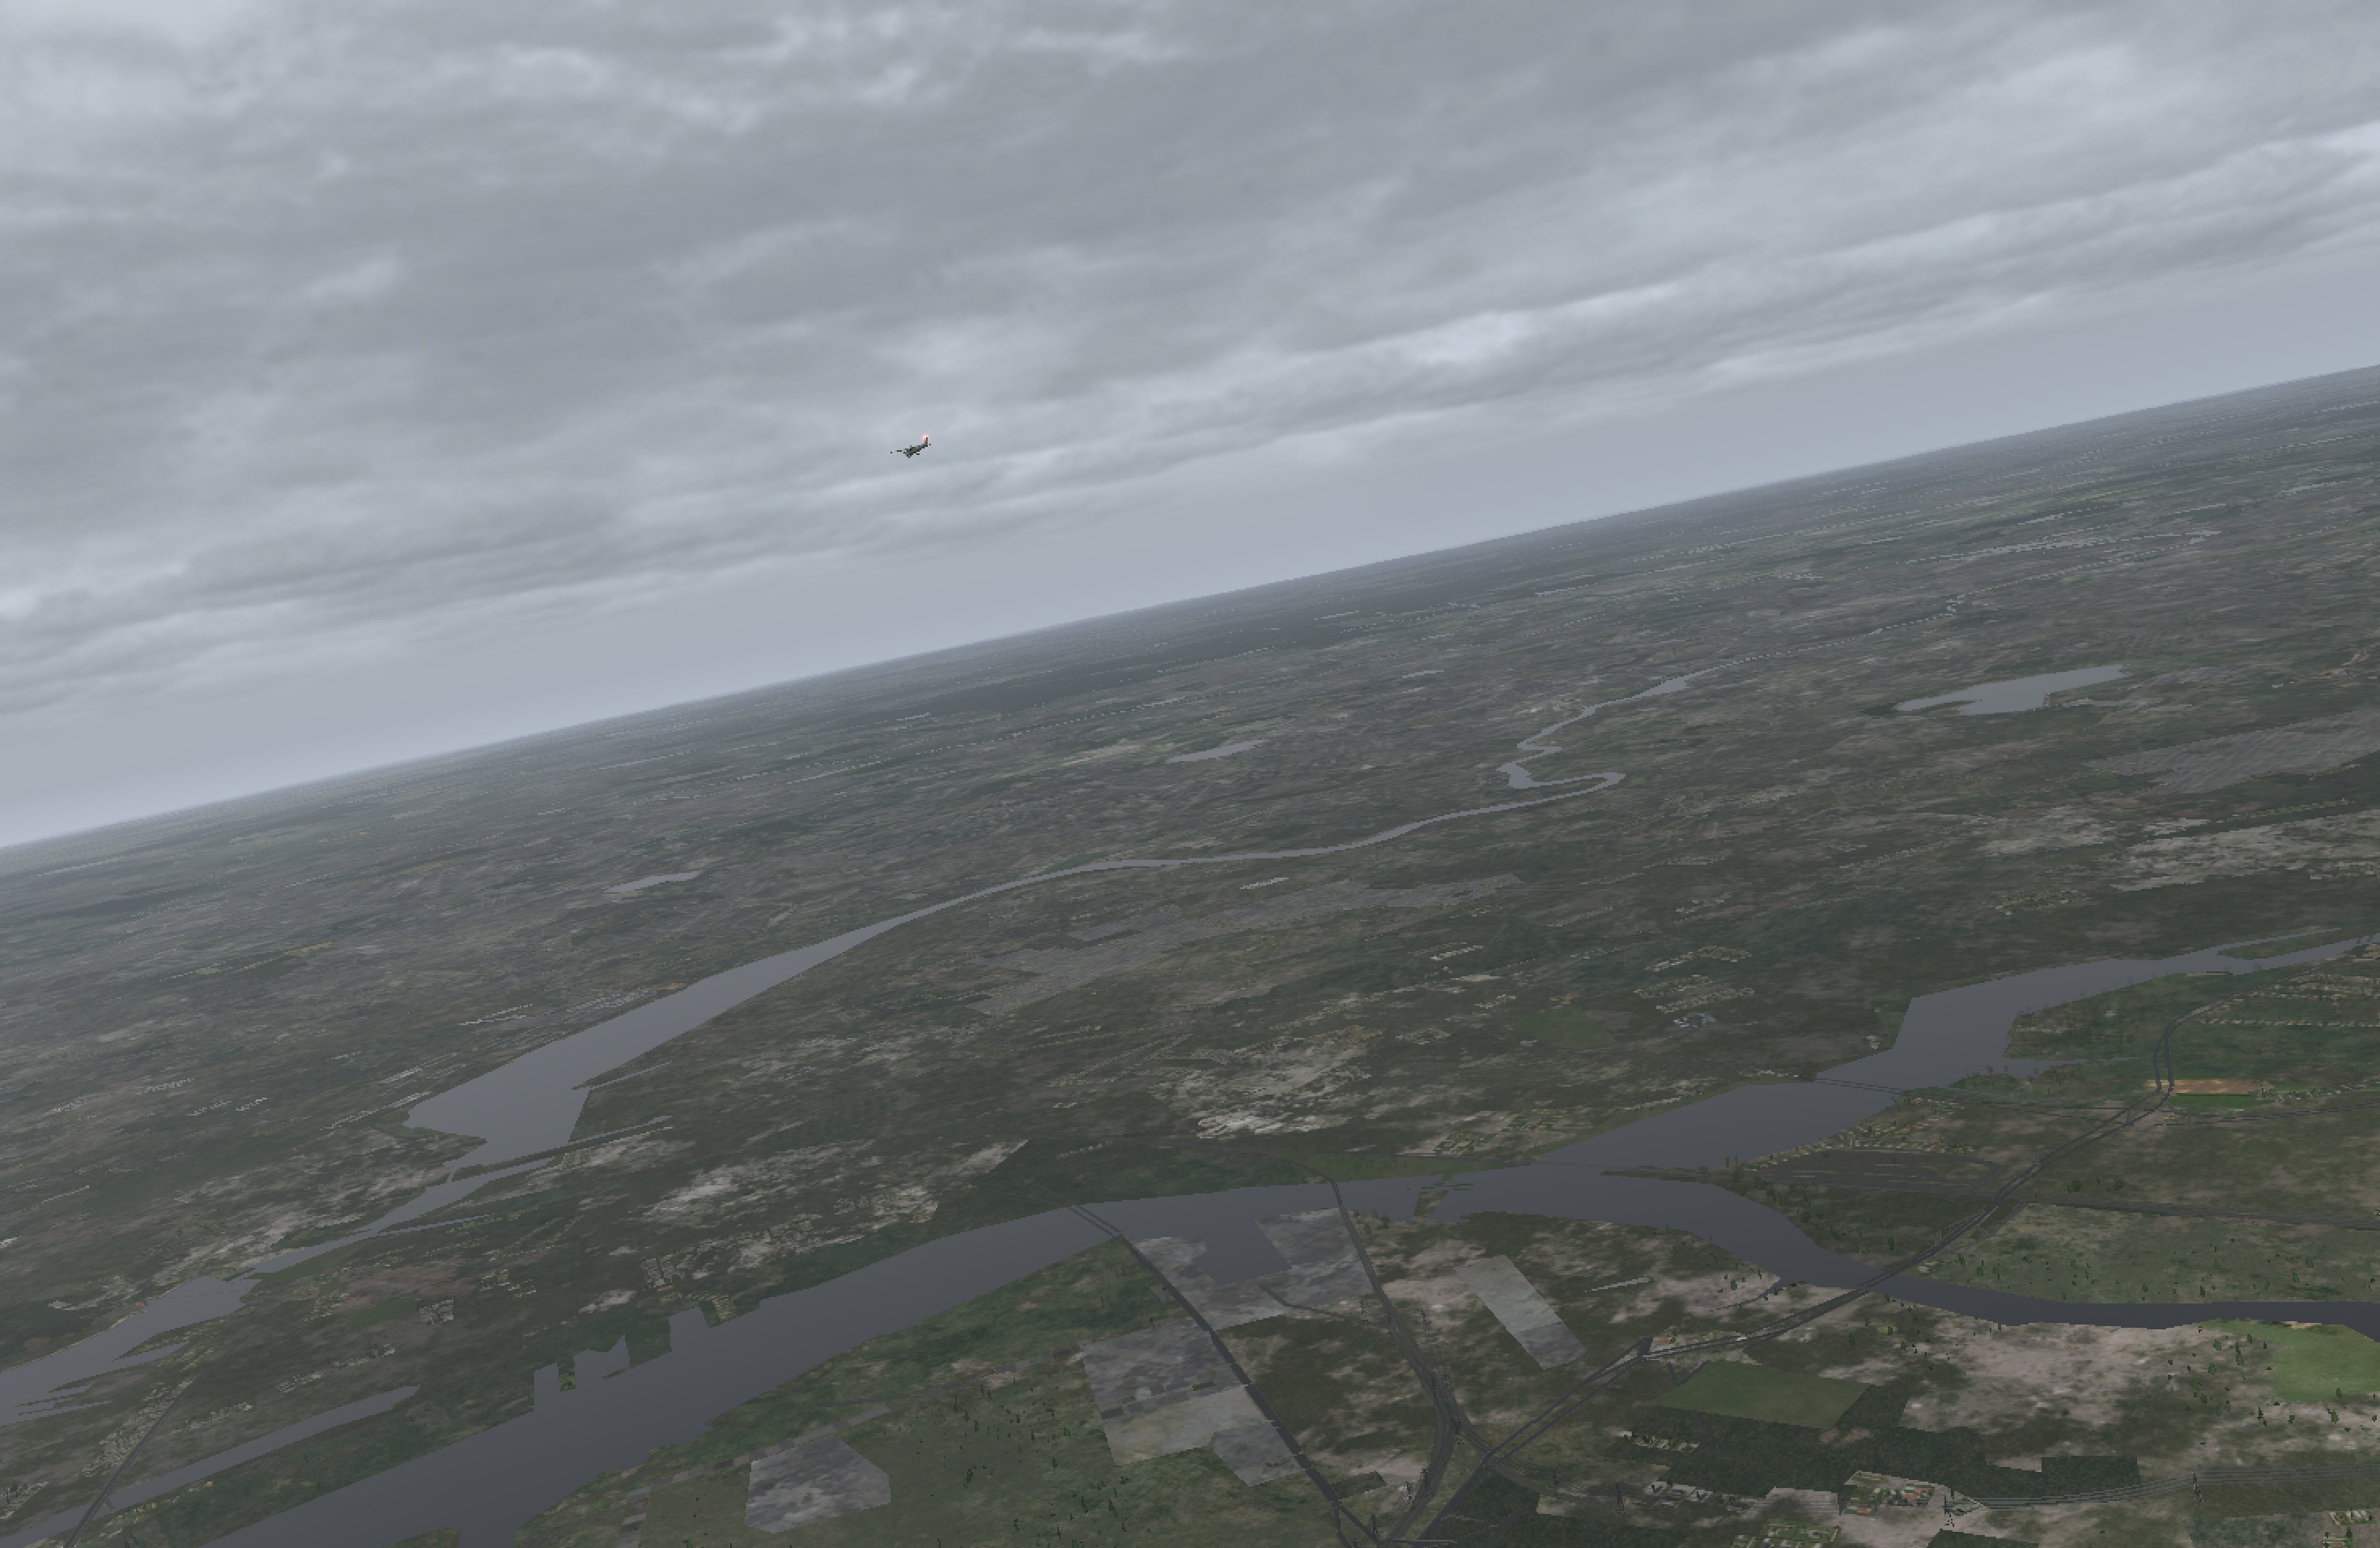aircraft: (892, 444, 930, 458)
